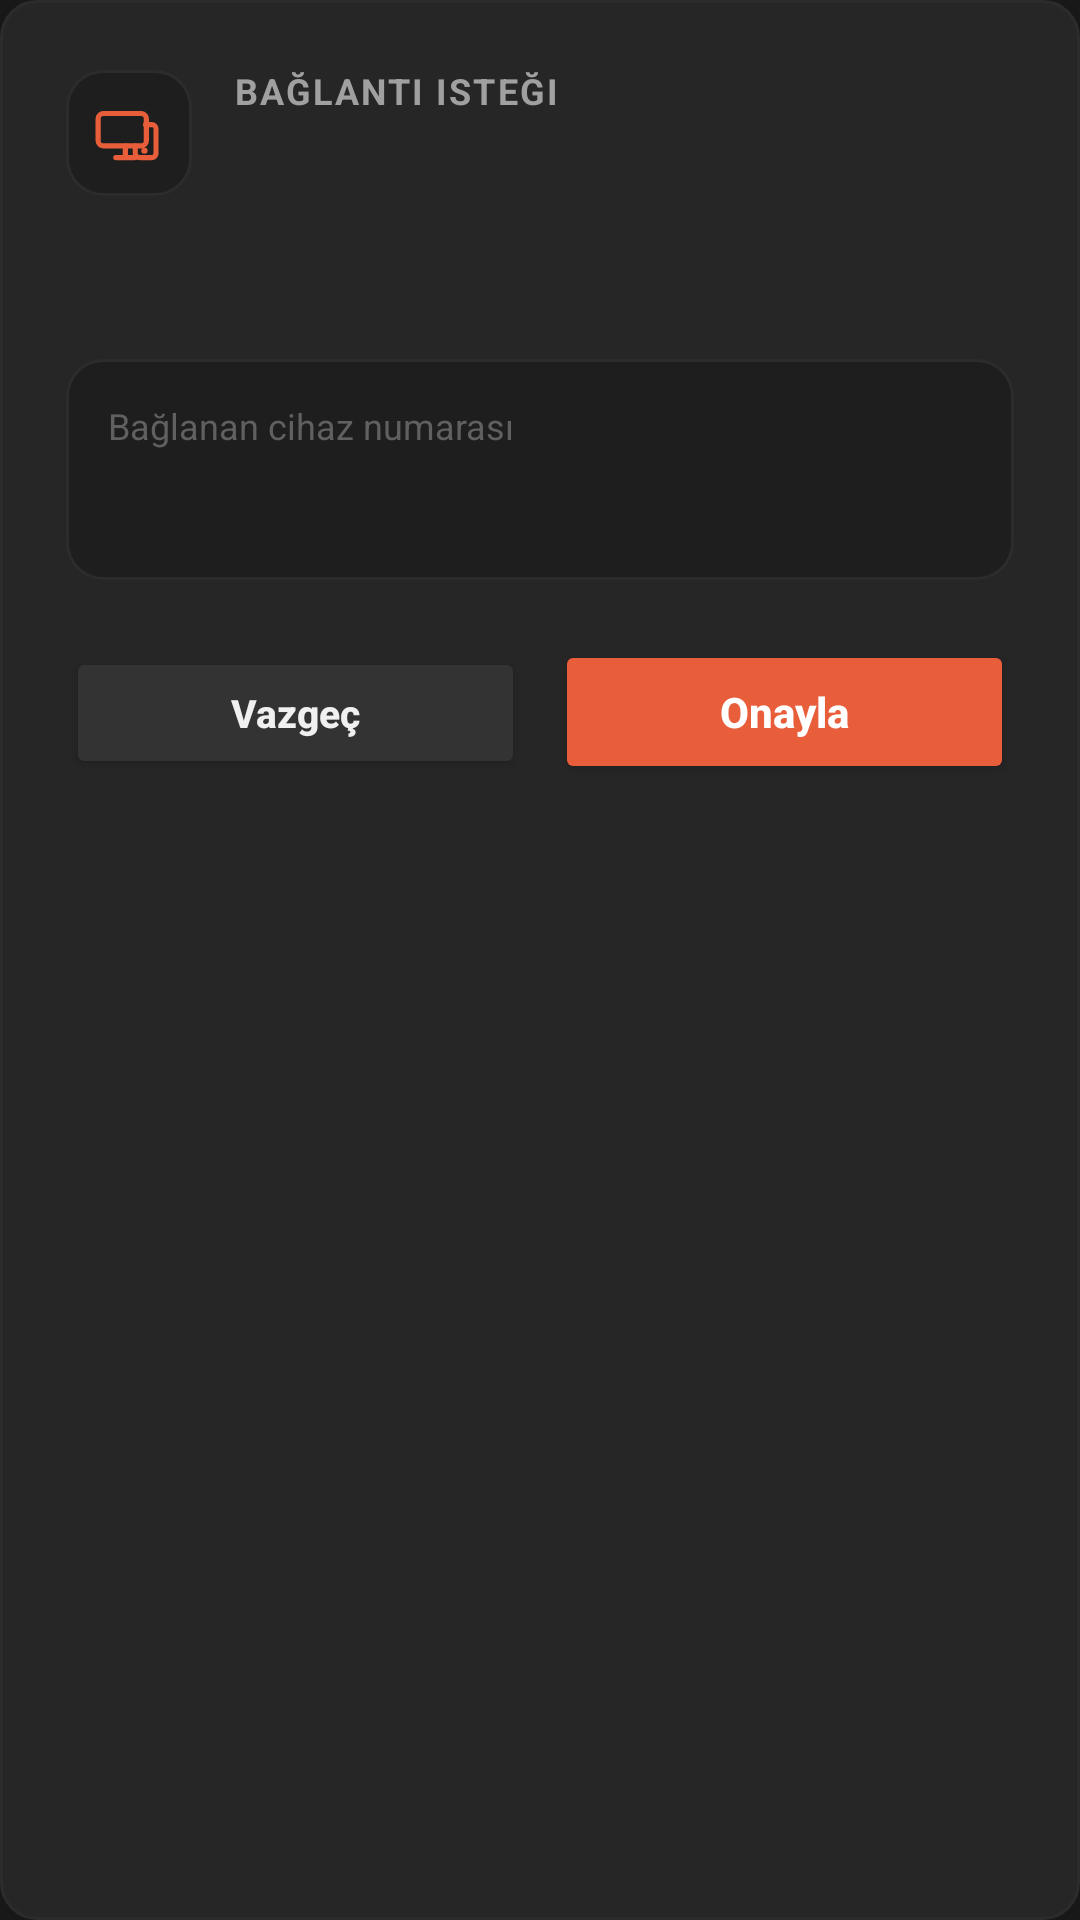

Screen size 1080*1920. Icon name, then its center in pixels as (x=x, y=y):
Cihazlar: (x=129, y=133)
